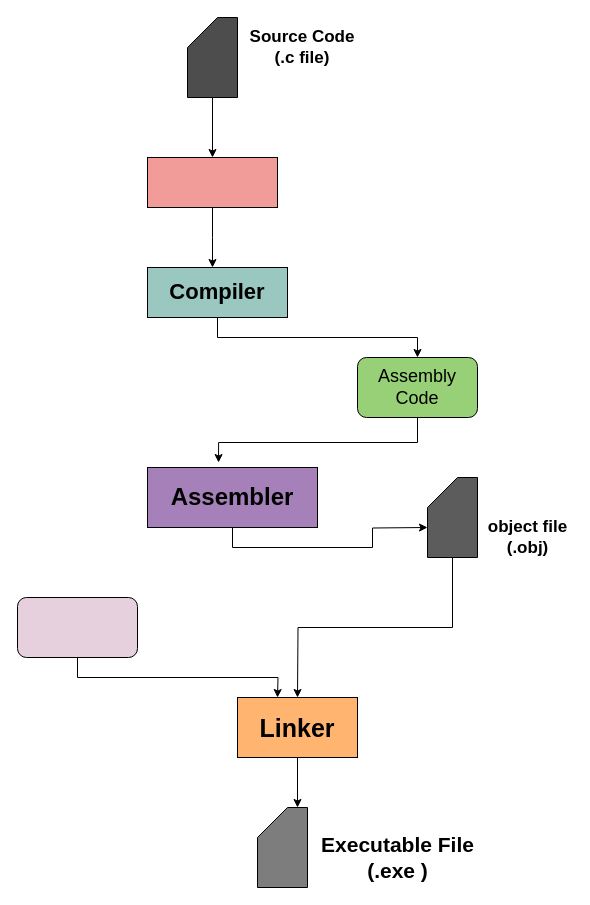
This 590x905 diagram has some shape labels left out. Here are the shapes that lost their labels. From the top down, the centre of each, then its label:
At (x=212, y=182): "Preprocessor".
At (x=77, y=627): "Libraries".
